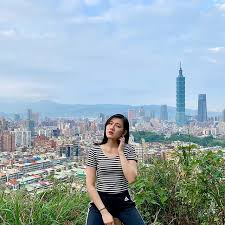people: (87, 114, 145, 225)
